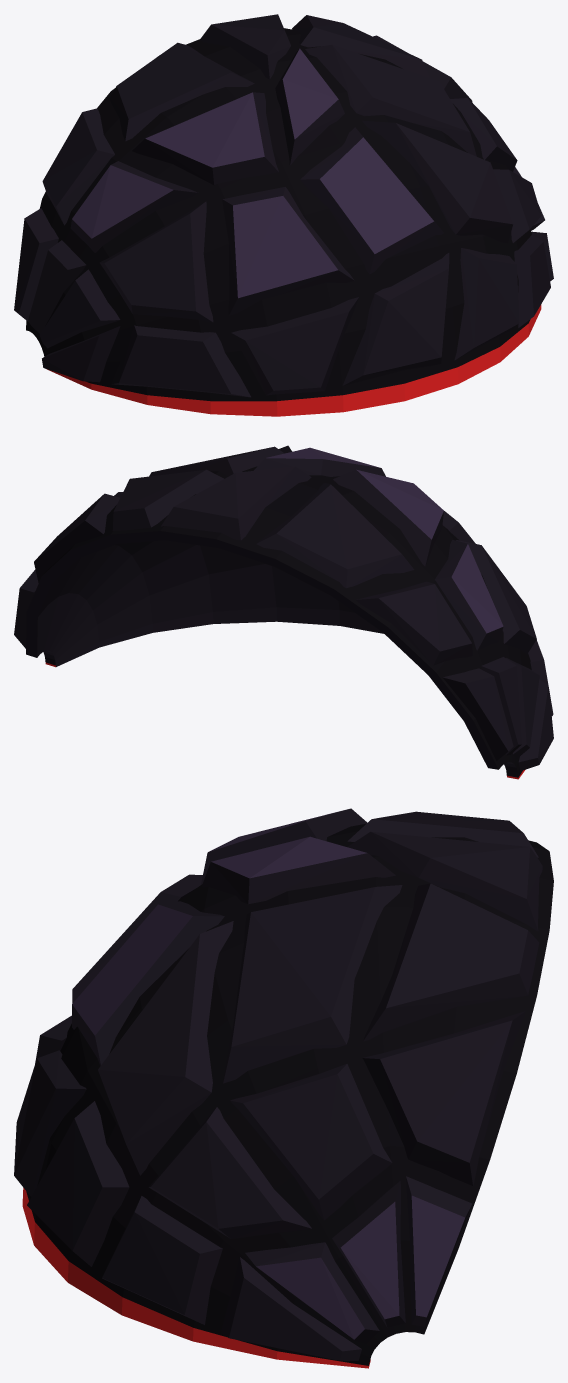
The model's file is BossEyeLidTop.obj.
The picture shows the model from 3 angles, top to bottom: view 1: azimuth 30°, elevation 25°; view 2: azimuth 150°, elevation 25°; view 3: azimuth 270°, elevation 25°; orthographic projection. The views are drawn at different scales.
Visible parts, largest first — view 1: BossEyeLidTop; view 2: BossEyeLidTop; view 3: BossEyeLidTop.
Boxes of the visible parts, left/top/right/bottom form: BossEyeLidTop: left=14, top=14, right=553, bottom=416; BossEyeLidTop: left=14, top=445, right=553, bottom=779; BossEyeLidTop: left=14, top=808, right=553, bottom=1368.
Bounding box in the file's own units: 5.38 × 2.69 × 3.6.
